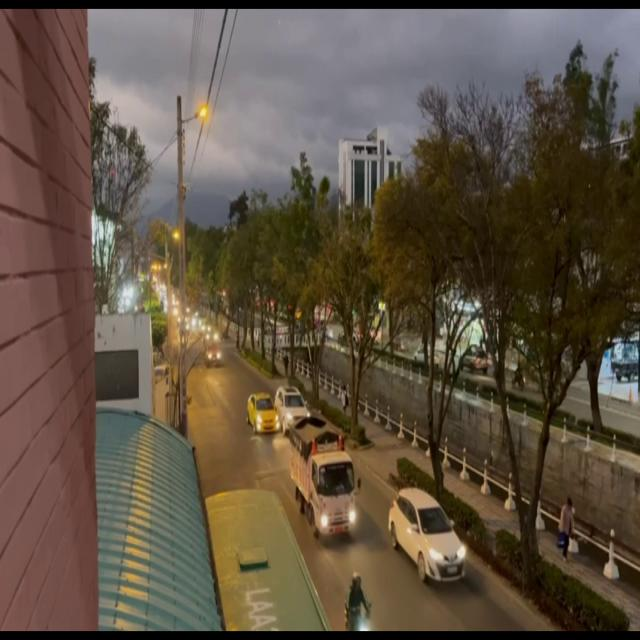SED: (251, 398, 279, 432)
SUV: (394, 494, 466, 580)
TRUCK: (312, 448, 360, 538)
